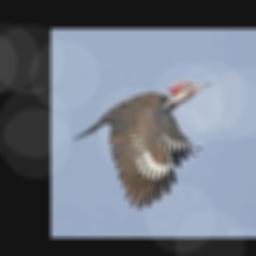Woodpecker: (73, 81, 210, 209)
